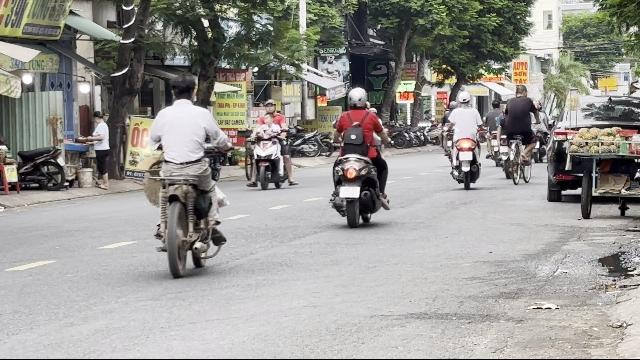helmet: (347, 87, 369, 109), (263, 99, 275, 114)
licenseplate: (340, 187, 360, 197)
motorcyclist: (140, 74, 232, 278), (326, 86, 392, 226), (243, 99, 294, 190)
nohelmet: (168, 74, 198, 102), (262, 112, 274, 126)
